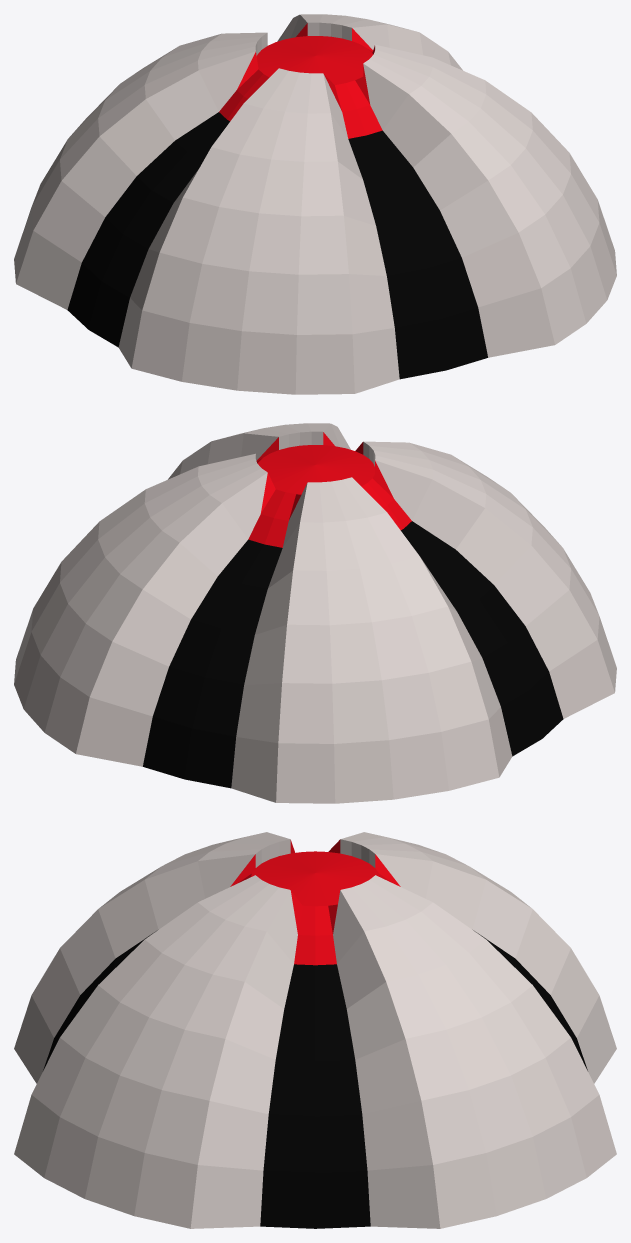
The model's file is Type2.fbx.
3 views of the same model, one above another, from view 1: azimuth 30°, elevation 25°; view 2: azimuth 150°, elevation 25°; view 3: azimuth 270°, elevation 25° (orthographic). The views are drawn at different scales.
Visible parts, largest first — view 1: 球; view 2: 球; view 3: 球.
Boxes of the visible parts, box(x1,y1,x2,y2) form: 球: box(14, 14, 616, 394); 球: box(14, 423, 616, 803); 球: box(14, 832, 616, 1228).
Size of the model in its own units: 181 by 81.15 by 181.
